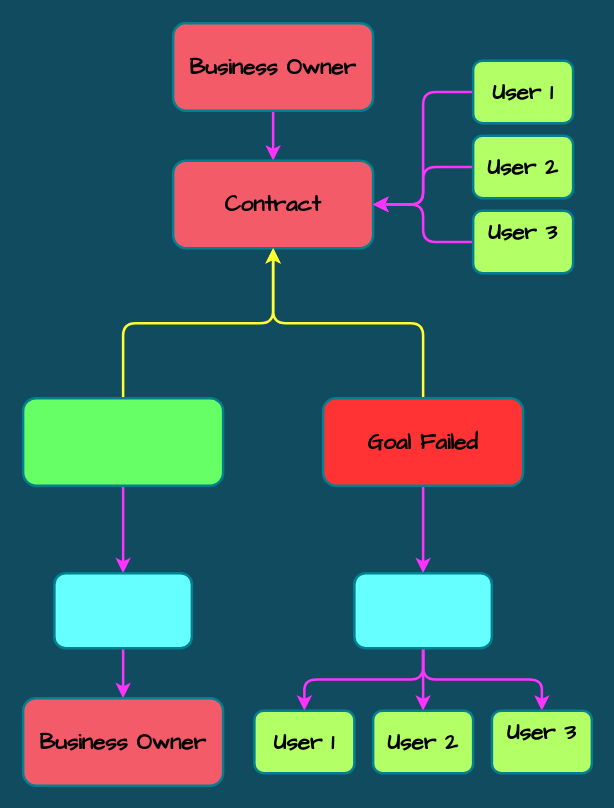
Image size: 614x808. Some labels were removed from this diagram. Here are the shapes that lost their labels. From the top down, the box of each, then its label:
(21, 396, 224, 486): Goal Achieved
(52, 571, 192, 649): Claim
(352, 571, 492, 649): Refund
